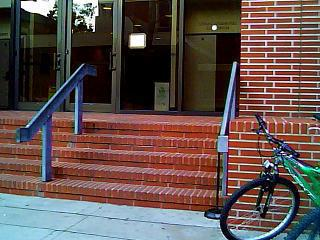Escaleras: (72, 123, 219, 207), (0, 119, 68, 192)
